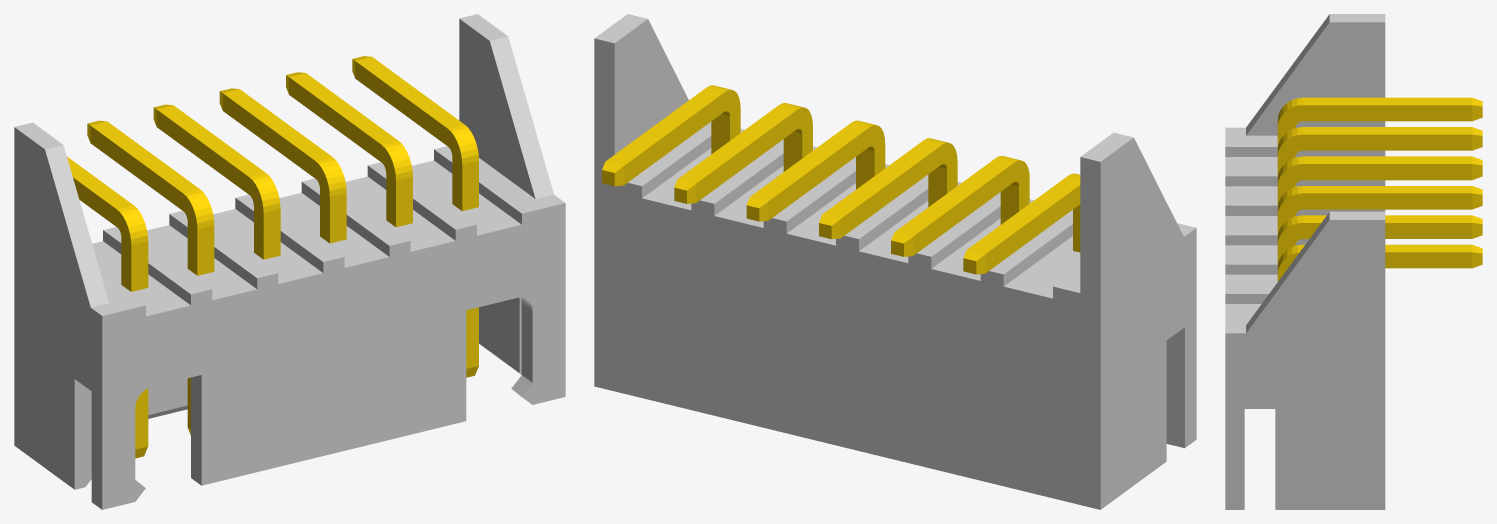
Rendered from DS1069-6 CWF-6R.obj.
3 views of the same model, side by side, from view 1: azimuth 30°, elevation 25°; view 2: azimuth 150°, elevation 25°; view 3: azimuth 270°, elevation 25° (orthographic). The views are drawn at different scales.
Parts seen in each view (by area): view 1: DS1069-6_CWF-6R; view 2: DS1069-6_CWF-6R; view 3: DS1069-6_CWF-6R.
Part boxes in pixels (x1=…): DS1069-6_CWF-6R: x1=14, y1=14, x2=565, y2=509; DS1069-6_CWF-6R: x1=594, y1=14, x2=1196, y2=509; DS1069-6_CWF-6R: x1=1225, y1=14, x2=1482, y2=509.
Bounding box in the file's own units: 0.0206 × 0.0135 × 0.0109.
